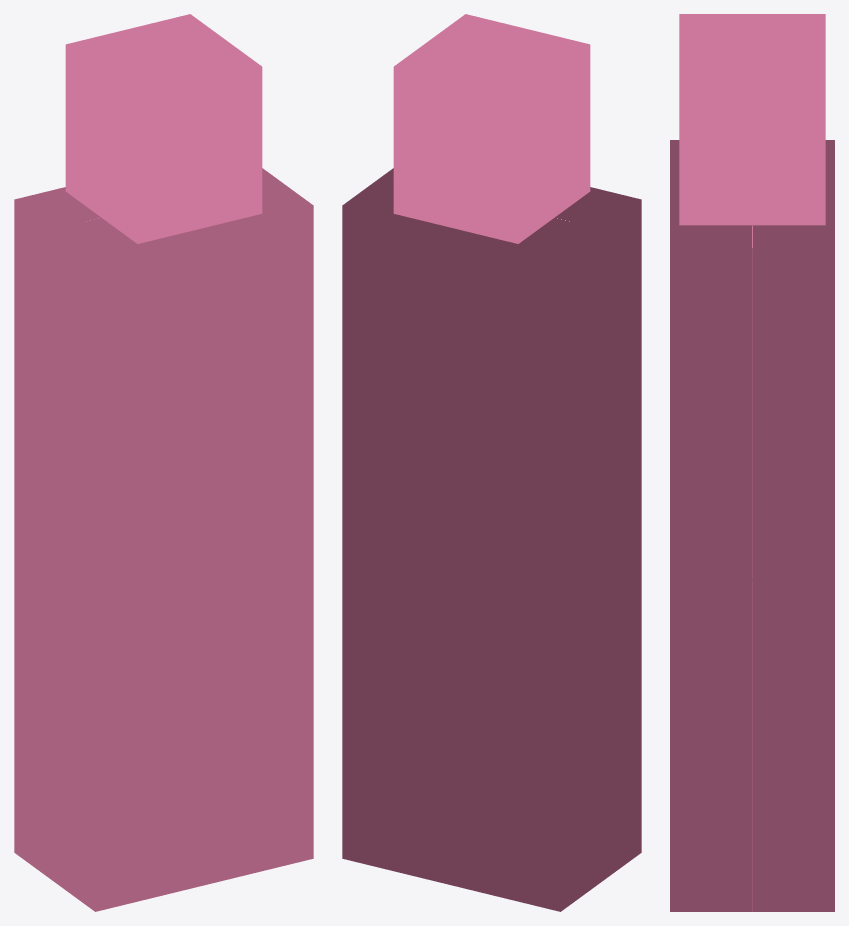
3 views of the same model, side by side, from view 1: azimuth 30°, elevation 25°; view 2: azimuth 150°, elevation 25°; view 3: azimuth 270°, elevation 25° (orthographic).
Parts seen in each view (by area): view 1: Root; view 2: Root; view 3: Root.
Boxes of the visible parts, x1=… form: Root: x1=14, y1=14, x2=313, y2=911; Root: x1=342, y1=14, x2=641, y2=911; Root: x1=670, y1=14, x2=834, y2=911.
Size of the model in its own units: 0.56 by 1.96 by 0.36.
